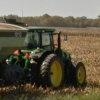Tractor: (11, 23, 90, 88)
